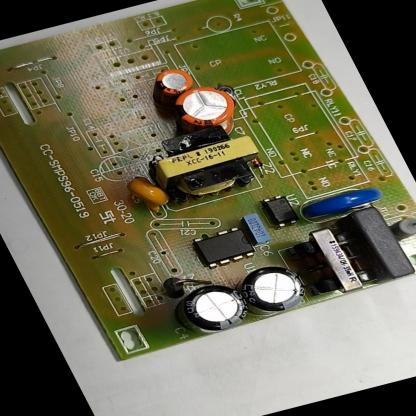Cap1: (165, 80, 242, 133)
Cap2: (141, 64, 197, 100)
Cap3: (234, 259, 316, 318)
Cap4: (172, 279, 258, 338)
MOSFET: (189, 224, 258, 270)
Mov: (294, 183, 386, 222)
Resistor: (385, 212, 415, 242)
Transformer: (136, 118, 274, 207), (286, 222, 380, 300)
